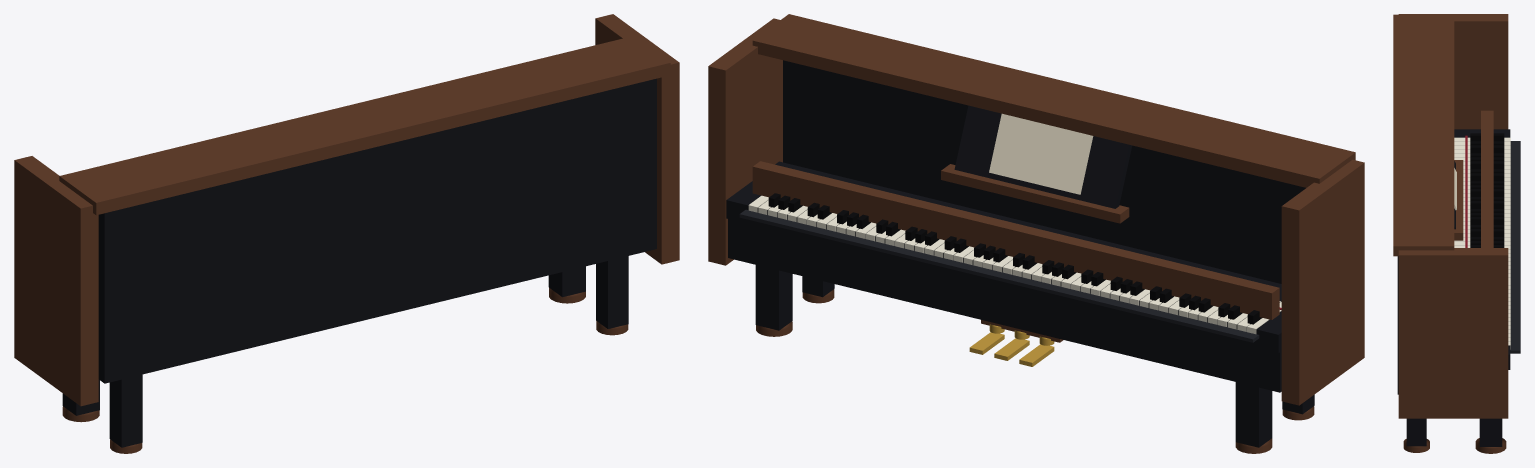
File: upright_piano.glb
3 views of the same model, side by side, from view 1: azimuth 30°, elevation 25°; view 2: azimuth 150°, elevation 25°; view 3: azimuth 270°, elevation 25° (orthographic). The views are drawn at different scales.
Visible parts, largest first — view 1: body_back_panel, top_lid, left_side_cheek, right_side_cheek, rear_leg_-3.3, rear_leg_+3.3, front_leg_+3.3; view 2: body_back_panel, top_lid, front_apron, left_side_cheek, fallboard, right_side_cheek, body_keybed, sheet_music_page, music_stand, keyboard_shadow_gap, music_ledge, front_leg_+3.3 (+1 smaller); view 3: right_side_cheek, top_lid, left_side_cheek, keyboard_shadow_gap, fallboard, front_leg_+3.3, music_ledge, rear_leg_+3.3, body_keybed, red_felt_strip, body_back_panel, front_foot_pad_+3.3 (+9 smaller).
Boxes of the visible parts, x1,y1,x2,y2 form: body_back_panel: [98, 78, 656, 383]; top_lid: [59, 36, 670, 215]; left_side_cheek: [14, 156, 98, 406]; right_side_cheek: [595, 14, 679, 264]; rear_leg_-3.3: [109, 374, 142, 447]; rear_leg_+3.3: [596, 256, 628, 328]; front_leg_+3.3: [548, 266, 585, 297]; body_back_panel: [783, 60, 1305, 283]; top_lid: [752, 14, 1355, 187]; front_apron: [728, 219, 1281, 392]; left_side_cheek: [1281, 159, 1364, 405]; fallboard: [752, 161, 1279, 319]; right_side_cheek: [708, 18, 782, 265]; body_keybed: [726, 161, 1281, 352]; sheet_music_page: [989, 113, 1093, 194]; music_stand: [954, 105, 1132, 208]; keyboard_shadow_gap: [739, 209, 1259, 342]; music_ledge: [941, 164, 1129, 223]; front_leg_+3.3: [755, 265, 792, 330]; right_side_cheek: [1398, 248, 1508, 418]; top_lid: [1393, 14, 1454, 256]; left_side_cheek: [1398, 14, 1508, 129]; keyboard_shadow_gap: [1510, 141, 1520, 353]; fallboard: [1481, 110, 1493, 247]; front_leg_+3.3: [1479, 418, 1502, 446]; music_ledge: [1454, 160, 1463, 240]; rear_leg_+3.3: [1406, 418, 1426, 446]; body_keybed: [1454, 129, 1510, 369]; red_felt_strip: [1465, 135, 1467, 247]; body_back_panel: [1397, 256, 1398, 394]; front_foot_pad_+3.3: [1475, 438, 1506, 453].
Size of the model in its own units: 8.08 by 3.42 by 1.8.
